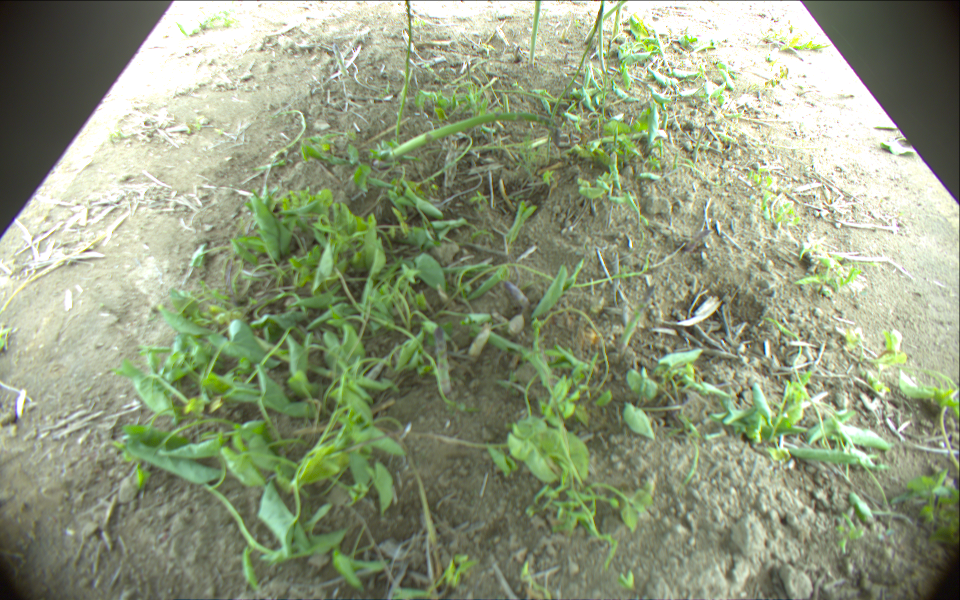aspa: (387, 112, 558, 160), (620, 282, 657, 349), (395, 1, 413, 137), (588, 1, 622, 43), (434, 327, 453, 398), (600, 1, 610, 74), (531, 1, 541, 64), (333, 45, 348, 77), (613, 1, 625, 40)
